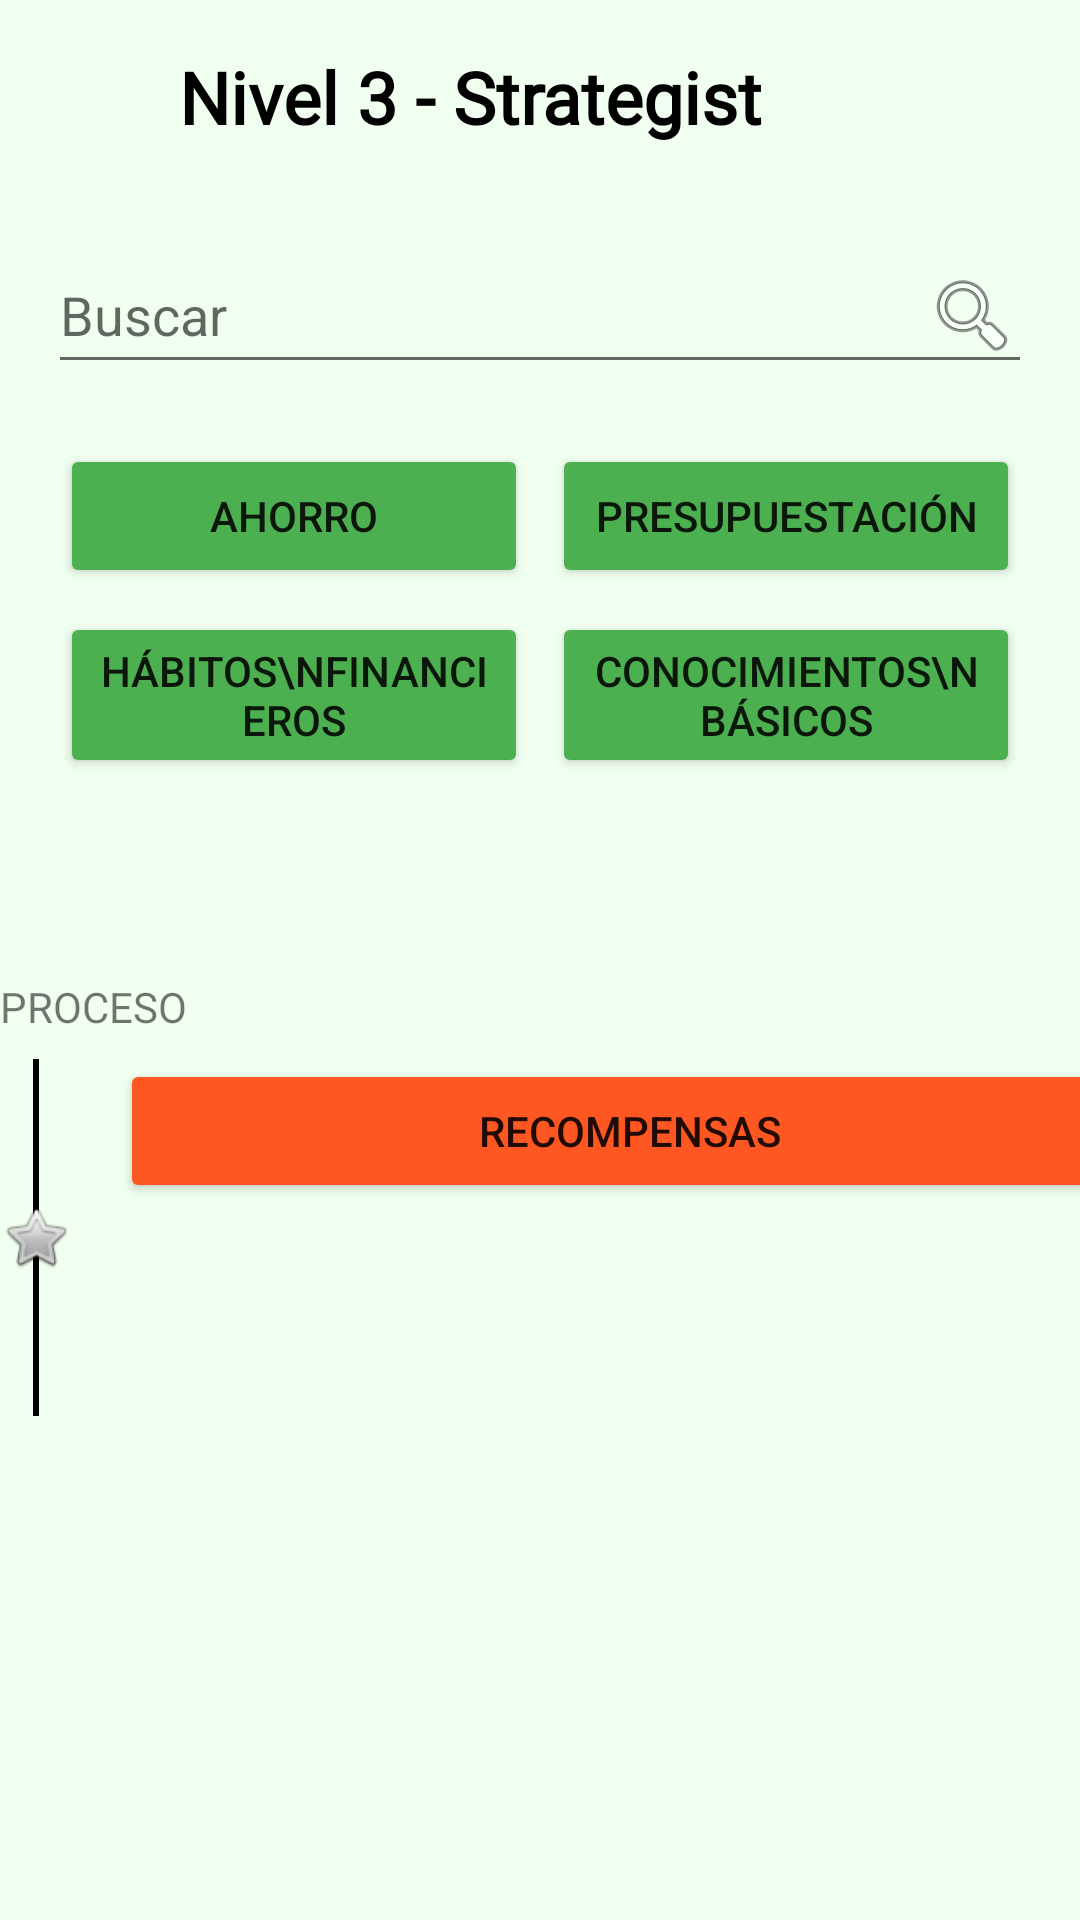

Point at icon controls on the screen. Image size 1080×1920, points as point (x, y).
star: point (37, 1237)
